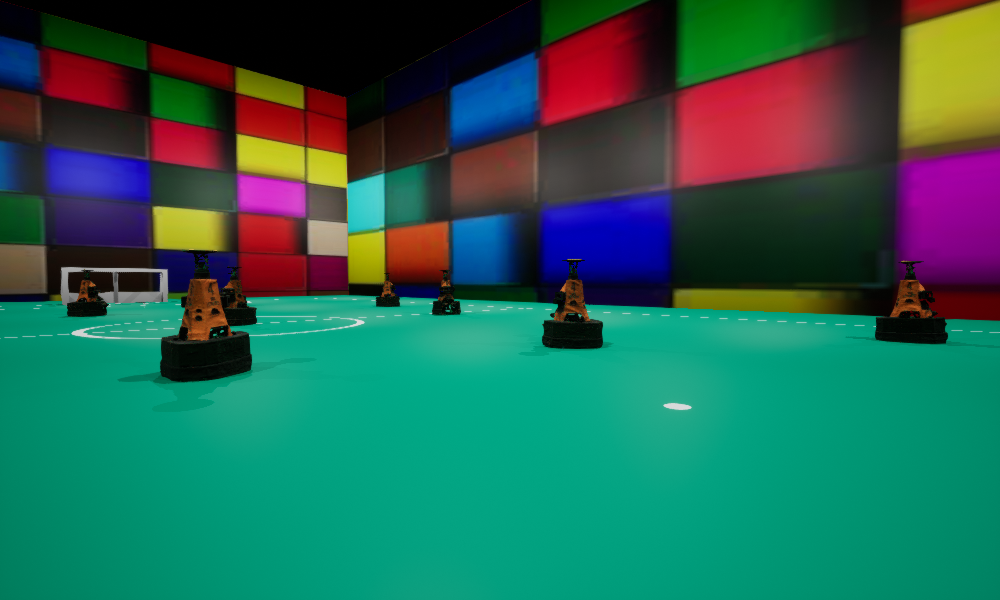o: (160, 249, 251, 381), (875, 261, 947, 343), (542, 259, 602, 348), (219, 266, 256, 325), (67, 269, 108, 316), (432, 270, 460, 314), (376, 273, 399, 306), (228, 273, 246, 305)
